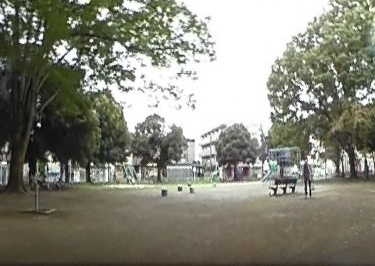person: (301, 155, 313, 194)
